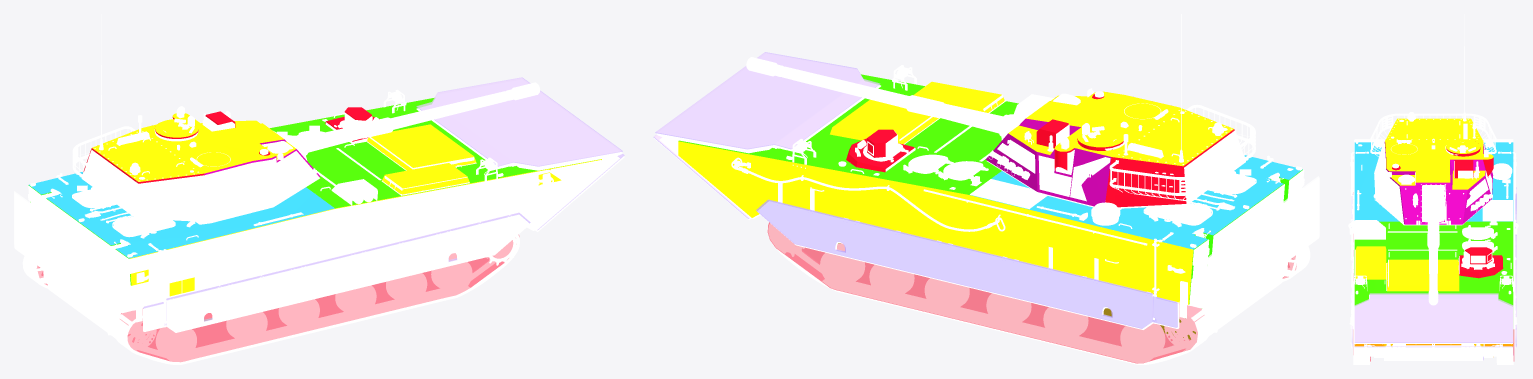
Rendered from ZTD05MGS.gltf.
The picture shows the model from 3 angles, left to right: view 1: azimuth 30°, elevation 25°; view 2: azimuth 150°, elevation 25°; view 3: azimuth 270°, elevation 25°; orthographic projection. The views are drawn at different scales.
Parts seen in each view (by area): view 1: 1, 1_3, 1_1, 1_8, ZBD2000_Tracks_Right_Col3, ZBD2000_FrontWaterRamp2_Col3, ZTD05_Turret_Col_2, 1_2, ZBD2000_Chassis_Col, ZBD2000_Chassis_Col_1, ZBD2000_Chassis_Col_3, 1_5 (+3 smaller); view 2: ZBD2000_Chassis_Col_3, 1_3, 1_1, ZBD2000_Skirt_Col5, ZBD2000_Tracks_Left_Col3, ZBD2000_FrontWaterRamp2_Col3, 1_8, ZTD05_Turret_Col_2, ZBD2000_Chassis_Col, 1_2, ZBD2000_Chassis_Col_1, 1_4 (+6 smaller); view 3: 1_1, ZBD2000_FrontWaterRamp2_Col3, ZBD2000_Chassis_Col, ZTD05_Turret_Col_2, 1_3, 1_8, ZBD2000_Chassis_Col_3, ZBD2000_Chassis_Col_1, ZTD05_Turret_Col_1, 1_6, ZBD2000_Chassis_Col_4, ZTD05_Turret_Col (+7 smaller).
Part boxes in pixels (bbox=[...]): 1: bbox=[28, 122, 601, 342]; 1_3: bbox=[28, 89, 553, 332]; 1_1: bbox=[14, 80, 624, 335]; 1_8: bbox=[72, 14, 319, 224]; ZBD2000_Tracks_Right_Col3: bbox=[120, 236, 519, 361]; ZBD2000_FrontWaterRamp2_Col3: bbox=[416, 77, 622, 166]; ZTD05_Turret_Col_2: bbox=[92, 113, 296, 181]; 1_2: bbox=[37, 237, 519, 361]; ZBD2000_Chassis_Col: bbox=[28, 98, 601, 285]; ZBD2000_Chassis_Col_1: bbox=[29, 172, 334, 258]; ZBD2000_Chassis_Col_3: bbox=[129, 124, 601, 296]; 1_5: bbox=[113, 235, 519, 364]; ZBD2000_Chassis_Col_3: bbox=[678, 81, 1193, 304]; 1_3: bbox=[731, 65, 1304, 329]; 1_1: bbox=[654, 54, 1319, 332]; ZBD2000_Skirt_Col5: bbox=[756, 199, 1177, 328]; ZBD2000_Tracks_Left_Col3: bbox=[767, 222, 1203, 363]; ZBD2000_FrontWaterRamp2_Col3: bbox=[655, 52, 880, 149]; 1_8: bbox=[987, 14, 1255, 209]; ZTD05_Turret_Col_2: bbox=[1008, 91, 1233, 166]; ZBD2000_Chassis_Col: bbox=[678, 74, 1302, 339]; 1_2: bbox=[768, 226, 1294, 361]; ZBD2000_Chassis_Col_1: bbox=[969, 155, 1302, 249]; 1_4: bbox=[768, 223, 1210, 364]; 1_1: bbox=[1354, 140, 1512, 360]; ZBD2000_FrontWaterRamp2_Col3: bbox=[1354, 293, 1513, 342]; ZBD2000_Chassis_Col: bbox=[1354, 221, 1513, 306]; ZTD05_Turret_Col_2: bbox=[1385, 118, 1493, 189]; 1_3: bbox=[1348, 140, 1518, 348]; 1_8: bbox=[1370, 14, 1496, 225]; ZBD2000_Chassis_Col_3: bbox=[1355, 246, 1459, 291]; ZBD2000_Chassis_Col_1: bbox=[1354, 142, 1513, 221]; ZTD05_Turret_Col_1: bbox=[1384, 142, 1493, 224]; 1_6: bbox=[1412, 185, 1445, 305]; ZBD2000_Chassis_Col_4: bbox=[1459, 247, 1503, 278]; ZTD05_Turret_Col: bbox=[1392, 147, 1493, 178].
Bounding box in the file's own units: 9.64 × 5.44 × 3.54.
